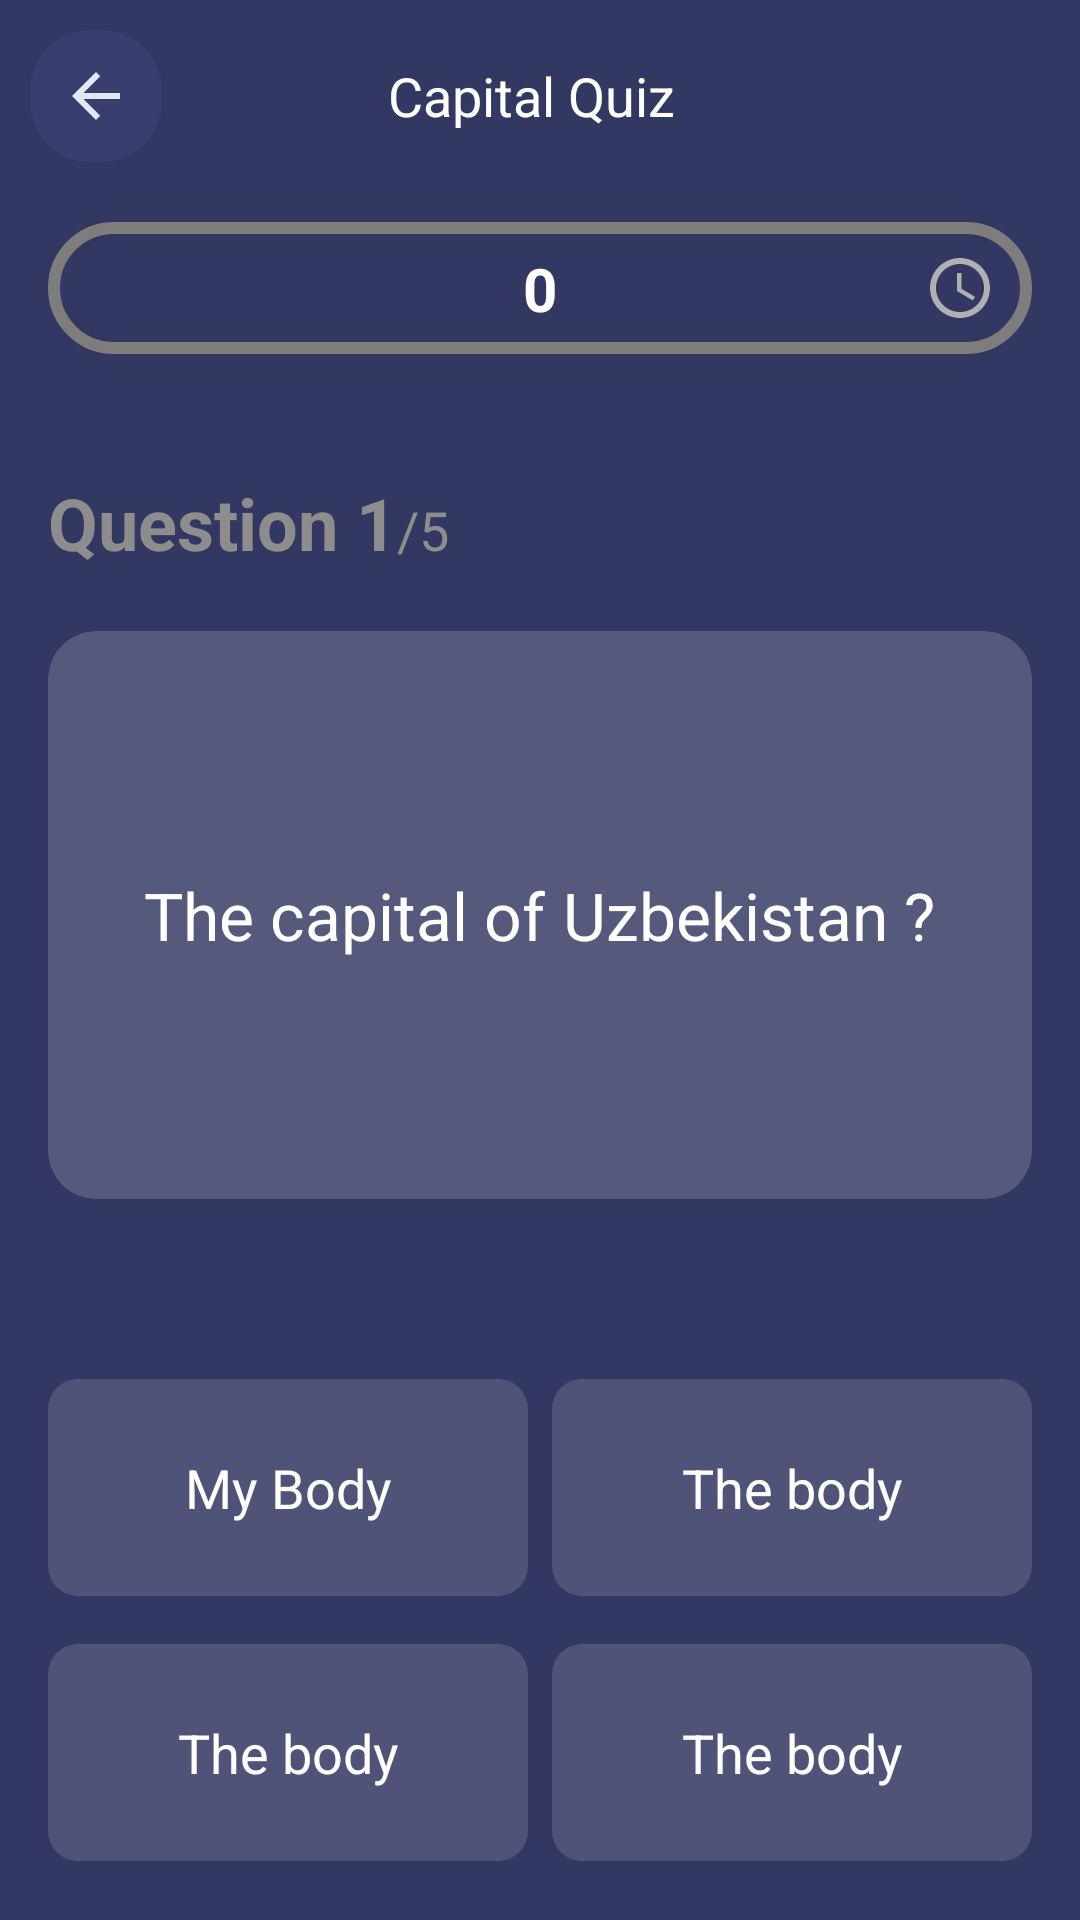

Where to tap for icons on this 1080w x 1920h app screen, as point (x, y):
access time: point (960, 288)
back: point (96, 96)
